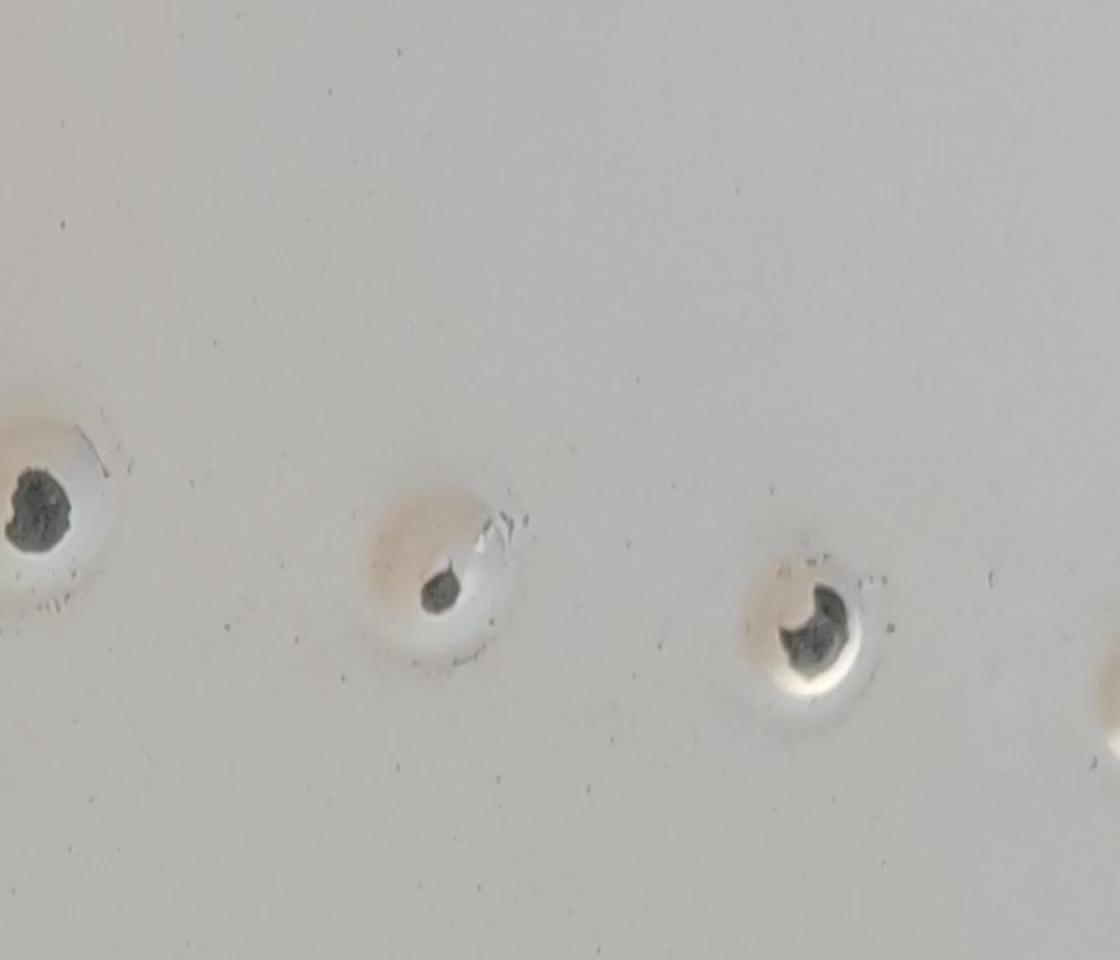paint_peel: (775, 582, 855, 683), (4, 468, 74, 557), (416, 565, 464, 622)
